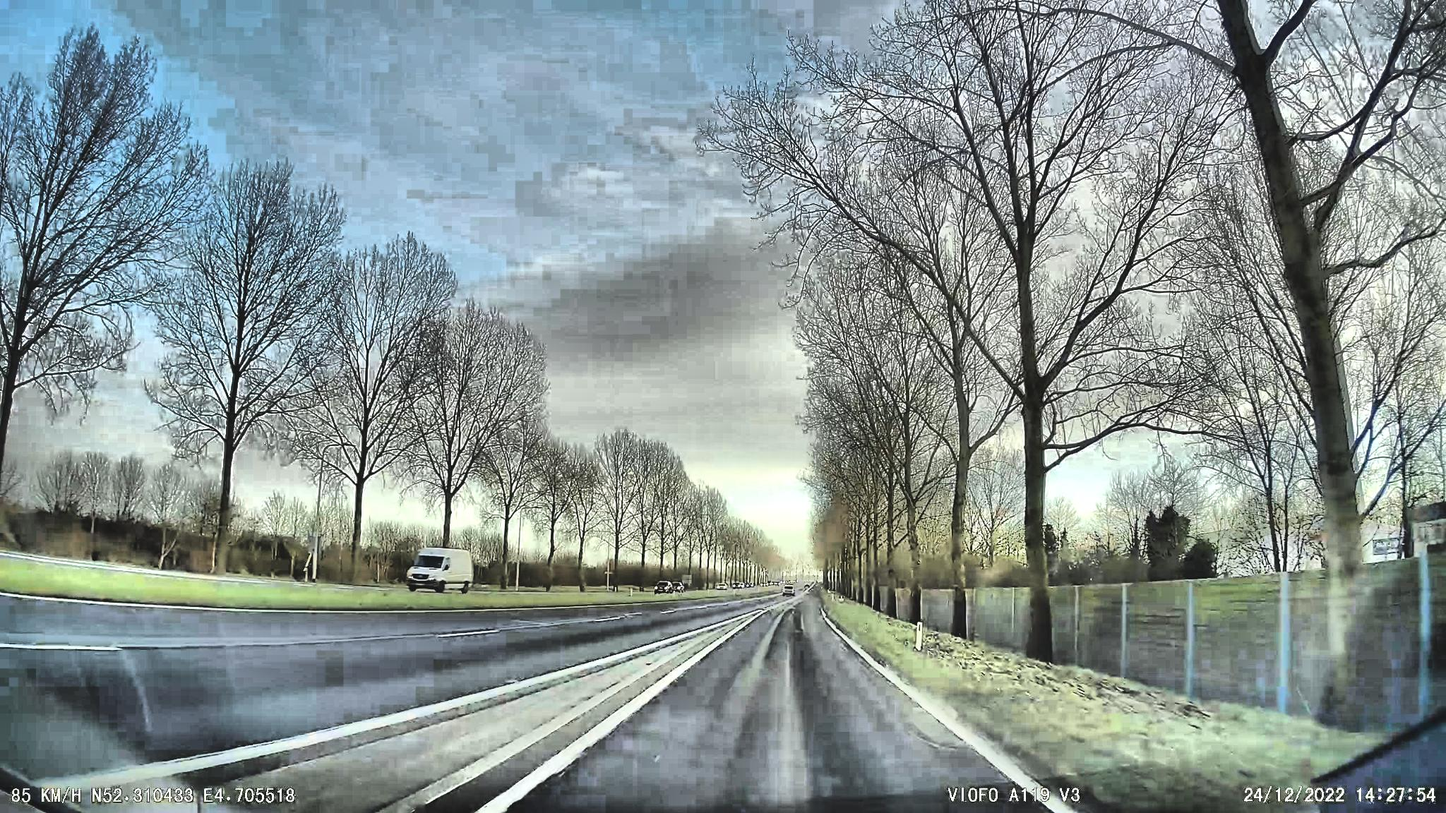Roads: (0, 595, 1082, 813)
